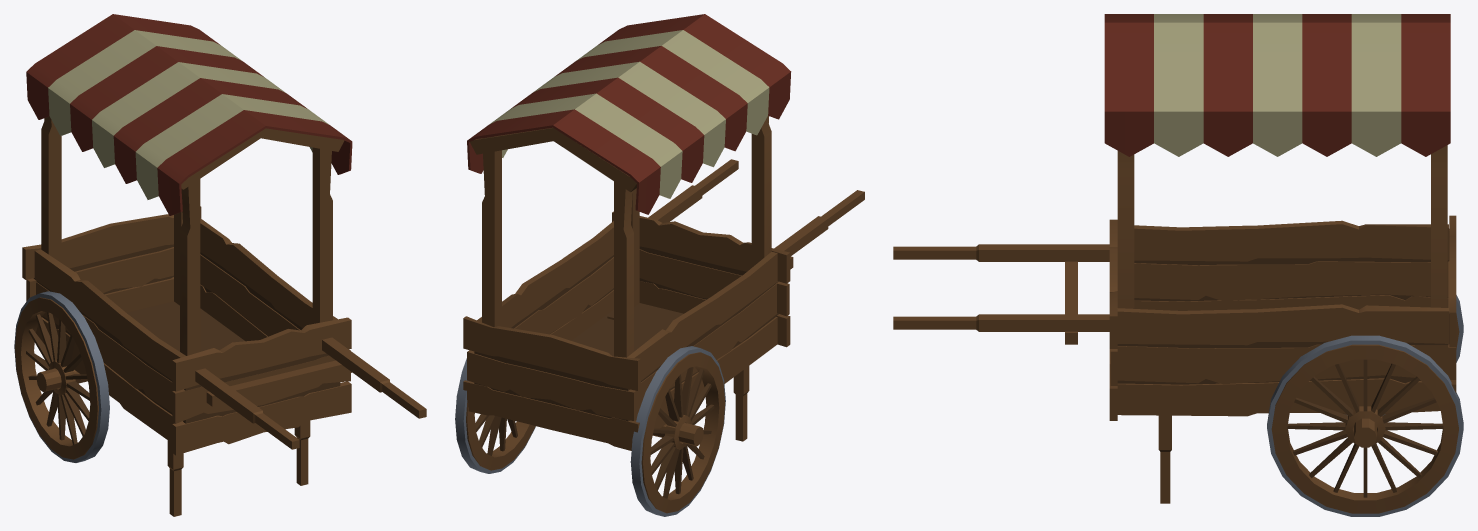
The model's file is Cart.glb.
3 views of the same model, side by side, from view 1: azimuth 30°, elevation 25°; view 2: azimuth 150°, elevation 25°; view 3: azimuth 270°, elevation 25° (orthographic). The views are drawn at different scales.
Parts seen in each view (by area): view 1: Cart; view 2: Cart; view 3: Cart.
Part boxes in pixels (x1,y1,x2,y2): Cart: [14, 14, 426, 516]; Cart: [455, 14, 864, 516]; Cart: [893, 14, 1463, 516].
Bounding box in the file's own units: 0.462 × 0.7961 × 0.9274.
Materials: 1 (1 with a texture image).
